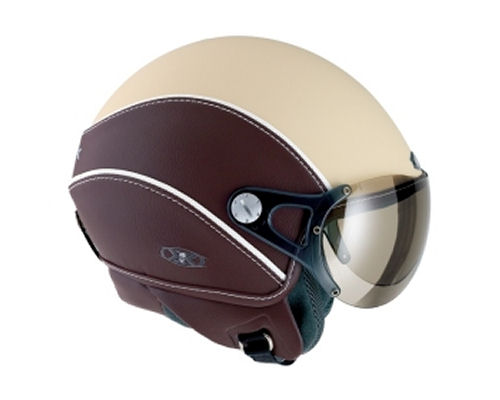helmet: (77, 44, 432, 356)
